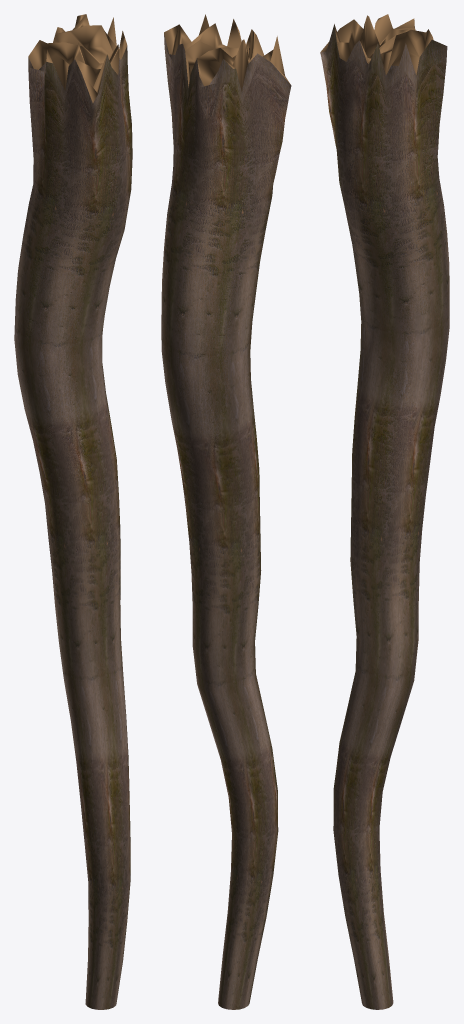
File: tree-11-club.glb
3 views of the same model, side by side, from view 1: azimuth 90°, elevation 25°; view 2: azimuth 150°, elevation 25°; view 3: azimuth 330°, elevation 25° (orthographic).
Visible parts, largest first — view 1: SugarMaple_Individual11_Club; view 2: SugarMaple_Individual11_Club; view 3: SugarMaple_Individual11_Club.
Part boxes in pixels (<box>): SugarMaple_Individual11_Club: <box>14,14,132,1009</box>; SugarMaple_Individual11_Club: <box>161,14,291,1009</box>; SugarMaple_Individual11_Club: <box>320,14,449,1009</box>.
Bounding box in the file's own units: 0.5116 × 3.99 × 0.4405.
Materials: 2 (1 with a texture image).
